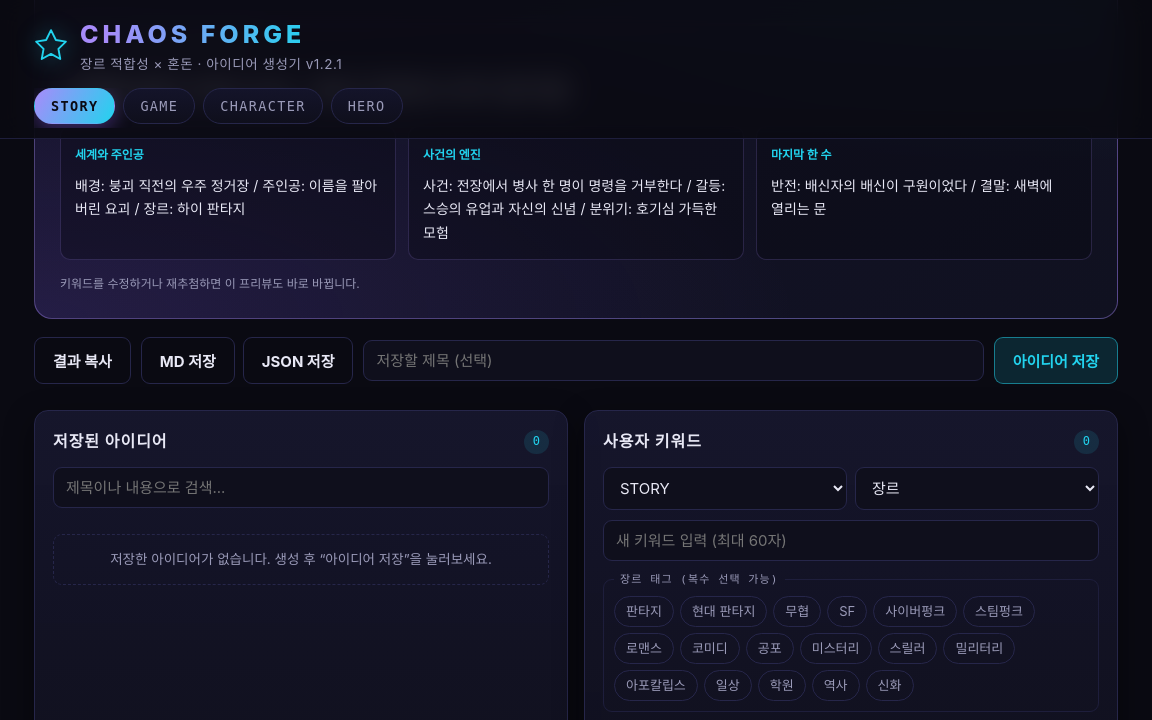
Test case: V1.1 작업 초안 안정성 › 저장 실패를 성공으로 표시하지 않는다
(page scrolled)
Step 1. Click the button with id "saveBtn" → (1056, 361), box 994,337 -> 1118,384
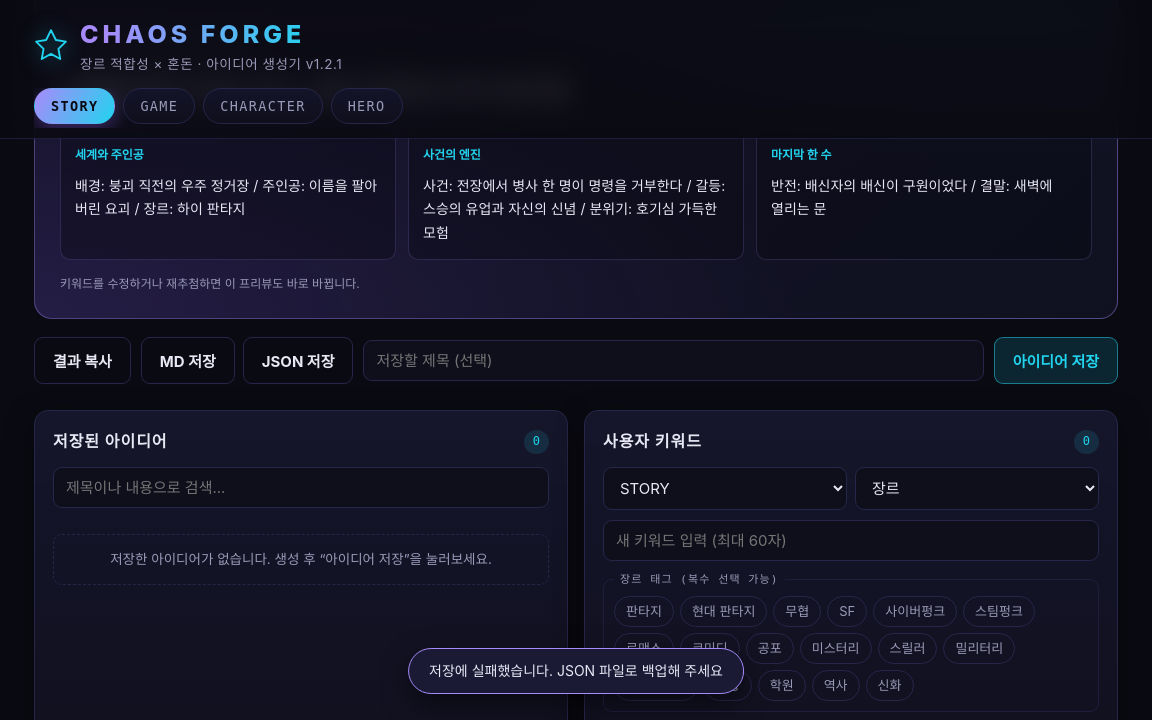
Expected: the text with id "ideaCount" reads "0", 533,434 -> 540,448
Expected: the message with id "toast" shows "저장에 실패", 429,662 -> 723,679
